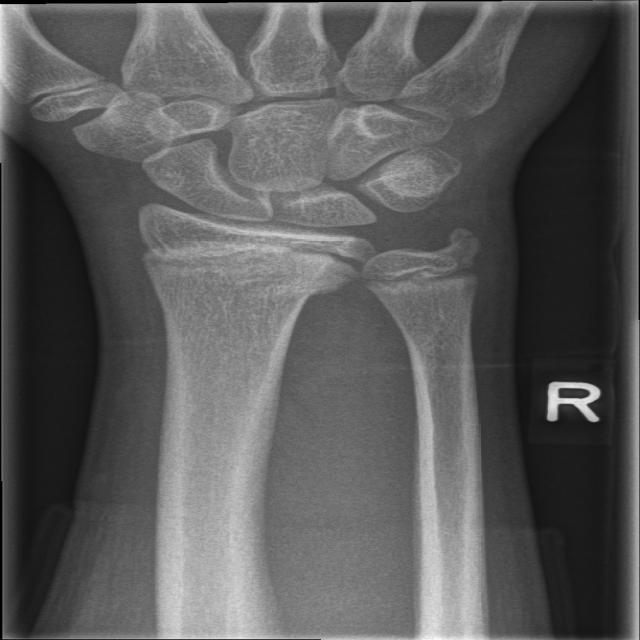radius fracture: (220, 241, 363, 351)
